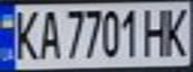0: (100, 6, 121, 58)
1: (118, 6, 142, 58)
7: (60, 7, 84, 60), (81, 6, 103, 60)
A: (33, 7, 63, 61)
H: (139, 5, 172, 57)
K: (6, 6, 42, 62), (160, 3, 193, 57)
